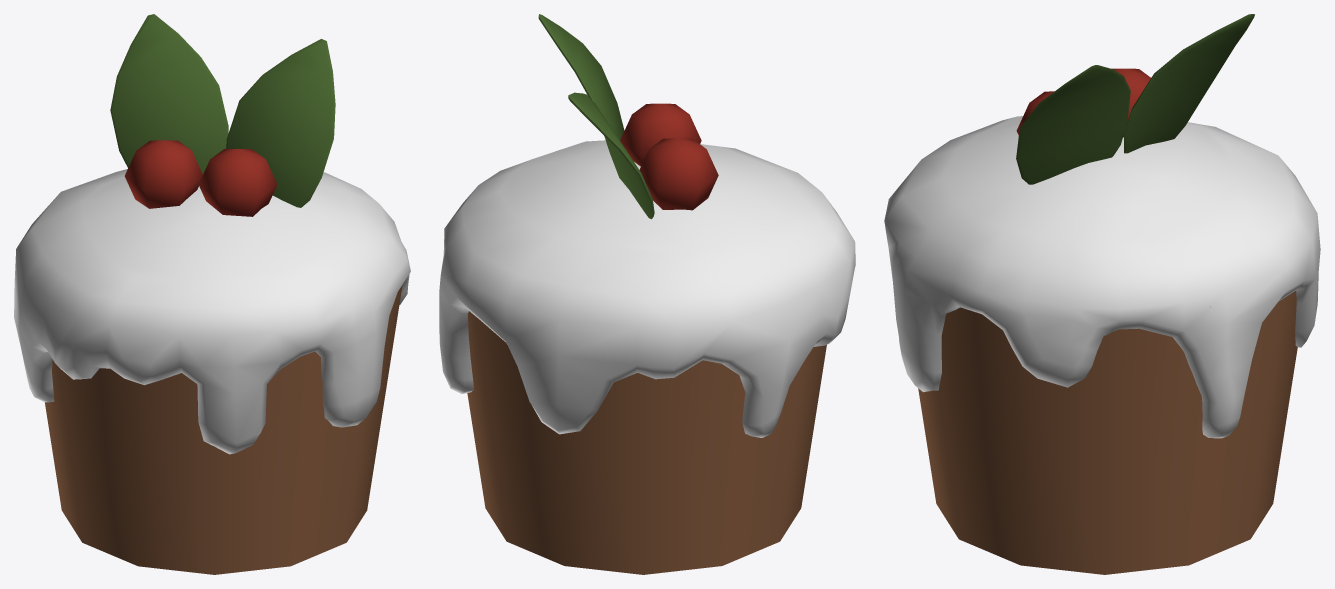
The model's file is ChristmasPuddingCake_01.fbx.
3 renders of one model, left to right at view 1: azimuth 30°, elevation 25°; view 2: azimuth 150°, elevation 25°; view 3: azimuth 270°, elevation 25°, orthographic. The views are drawn at different scales.
Parts seen in each view (by area): view 1: ChristmasPuddingCake_01; view 2: ChristmasPuddingCake_01; view 3: ChristmasPuddingCake_01.
Part boxes in pixels (<box>): ChristmasPuddingCake_01: <box>14,14,410,574</box>; ChristmasPuddingCake_01: <box>439,14,855,574</box>; ChristmasPuddingCake_01: <box>884,14,1320,574</box>.
Bounding box in the file's own units: 0.1375 × 0.1713 × 0.137.
